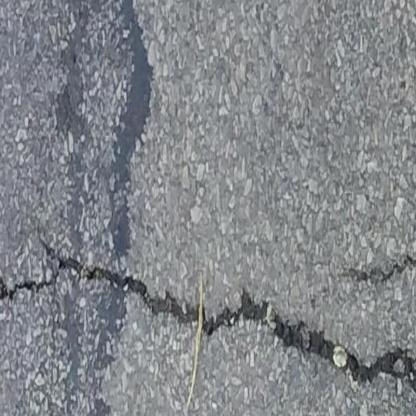Cracks: (0, 222, 416, 416), (336, 251, 416, 287)
